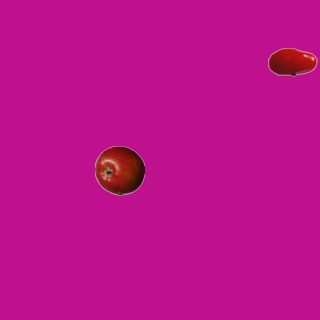Apple Braeburn: (94, 145, 144, 195)
Tomato 2: (267, 36, 317, 86)
